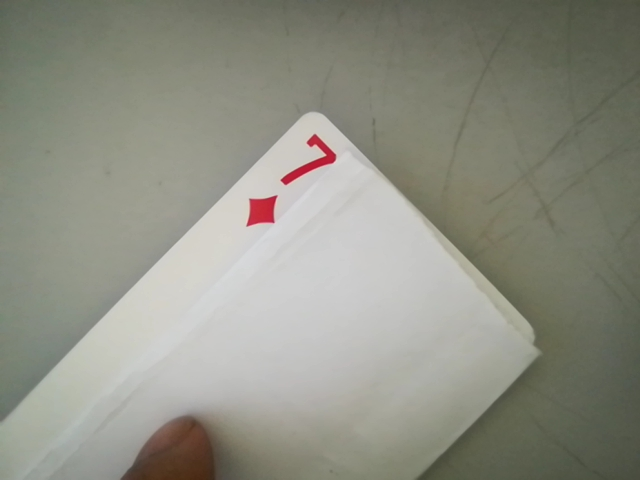fk 7: (230, 128, 353, 233)
